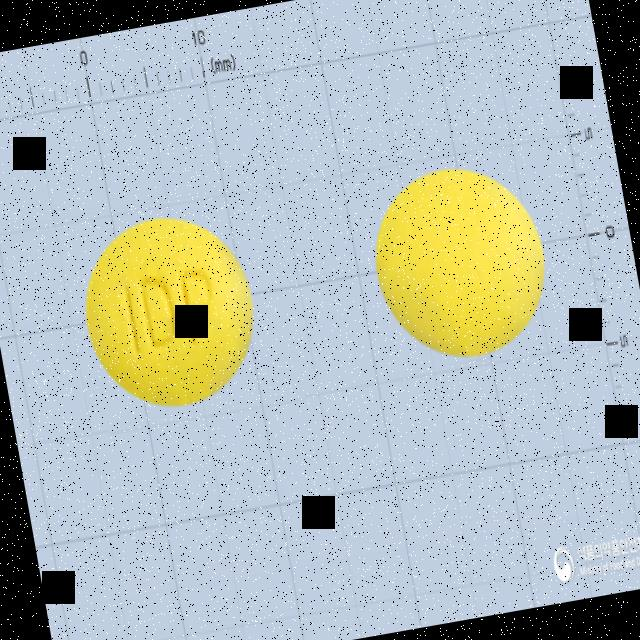Ciracle: (65, 200, 274, 423)
